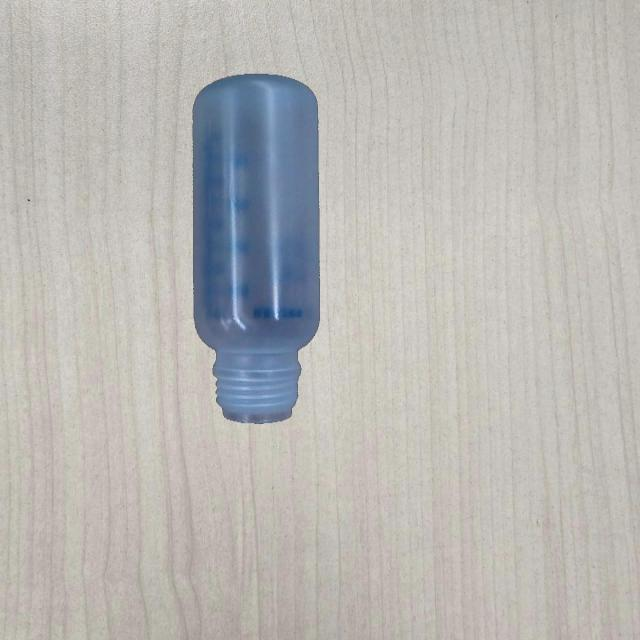bottle: (192, 72, 320, 424)
